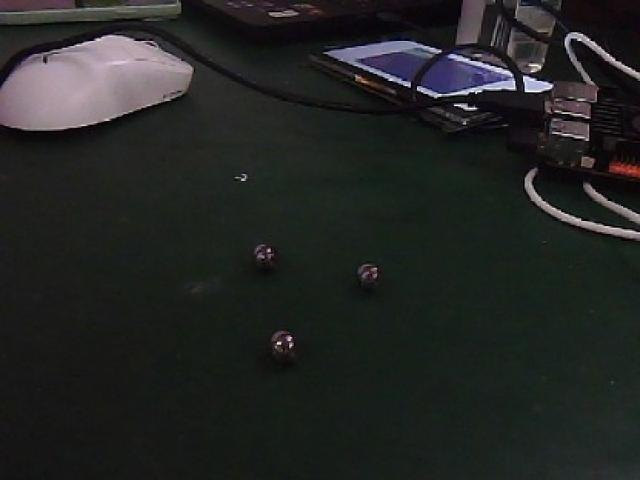steel-ball: (337, 243, 392, 302), (258, 309, 318, 357), (238, 217, 280, 269)
